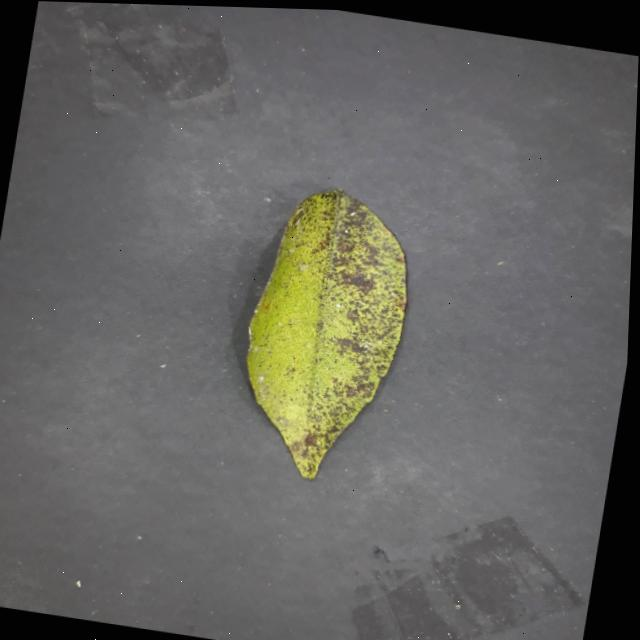greasy_spot: (246, 190, 406, 478)
